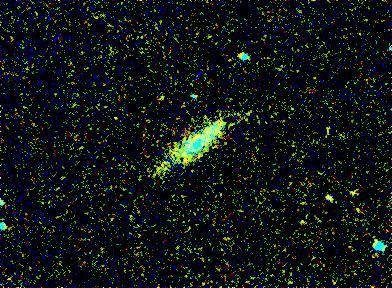star: (313, 182, 343, 212)
